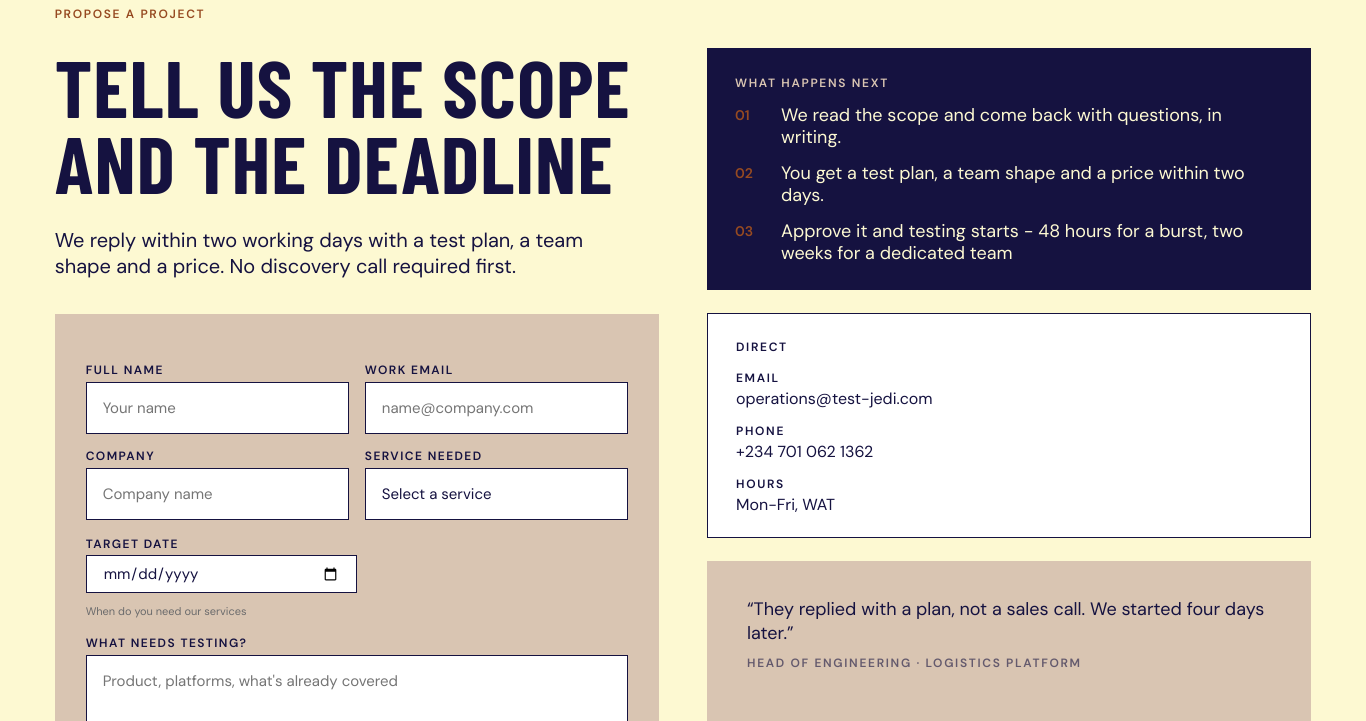
Test case: ContactSection notifications › shows a success toast after a successful submission
The width and height of the screenshot is (1366, 721).
In the field labelled "Full name": (217,408) [86, 382, 349, 434], type "Jane Applicant"
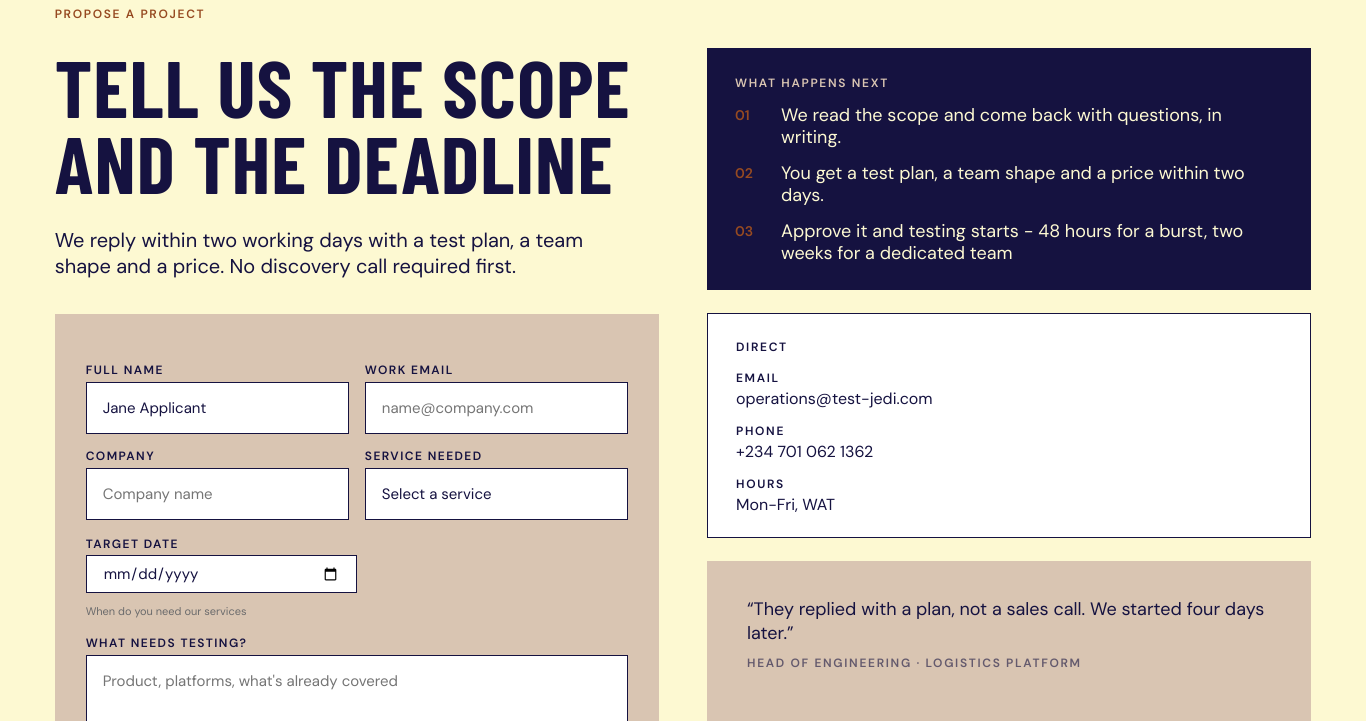
In the field labelled "Work email": (496,408) [365, 382, 628, 434], type "jane@example.com"
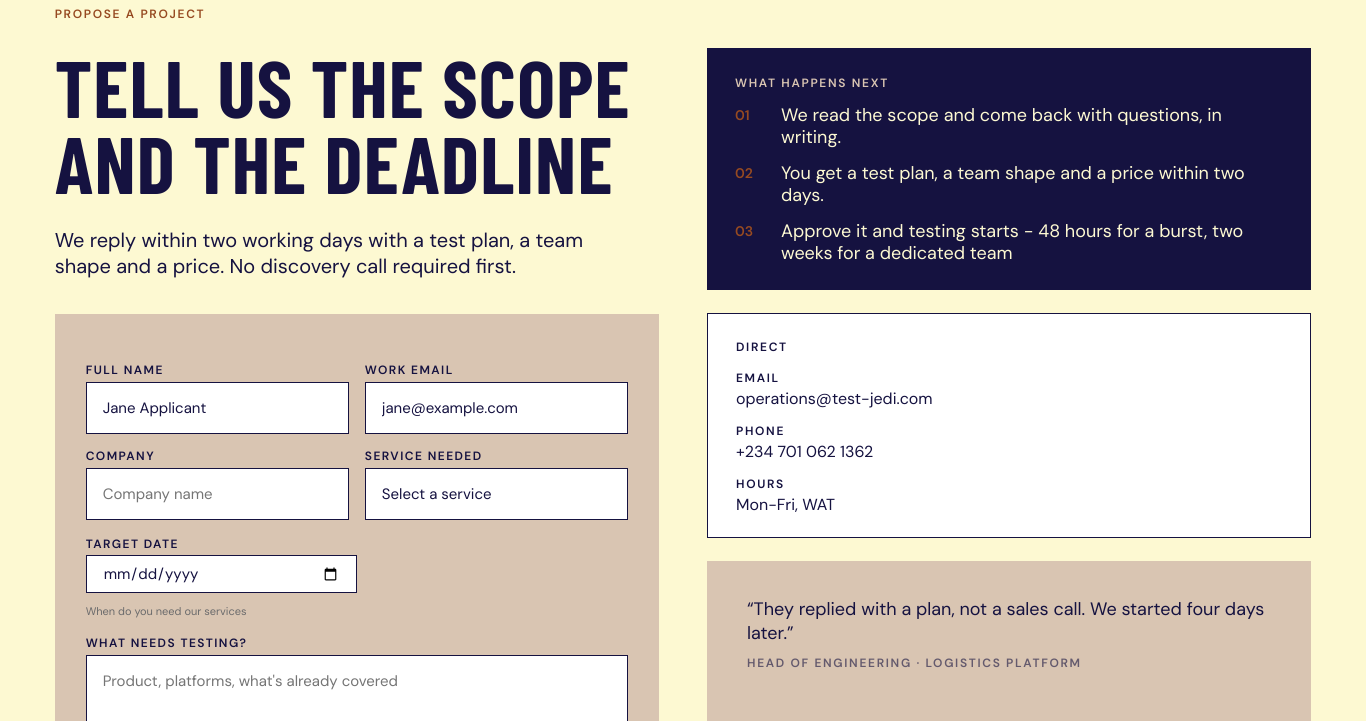
In the field labelled "Company": (217,494) [86, 468, 349, 520], type "Example Co"
(page scrolled)
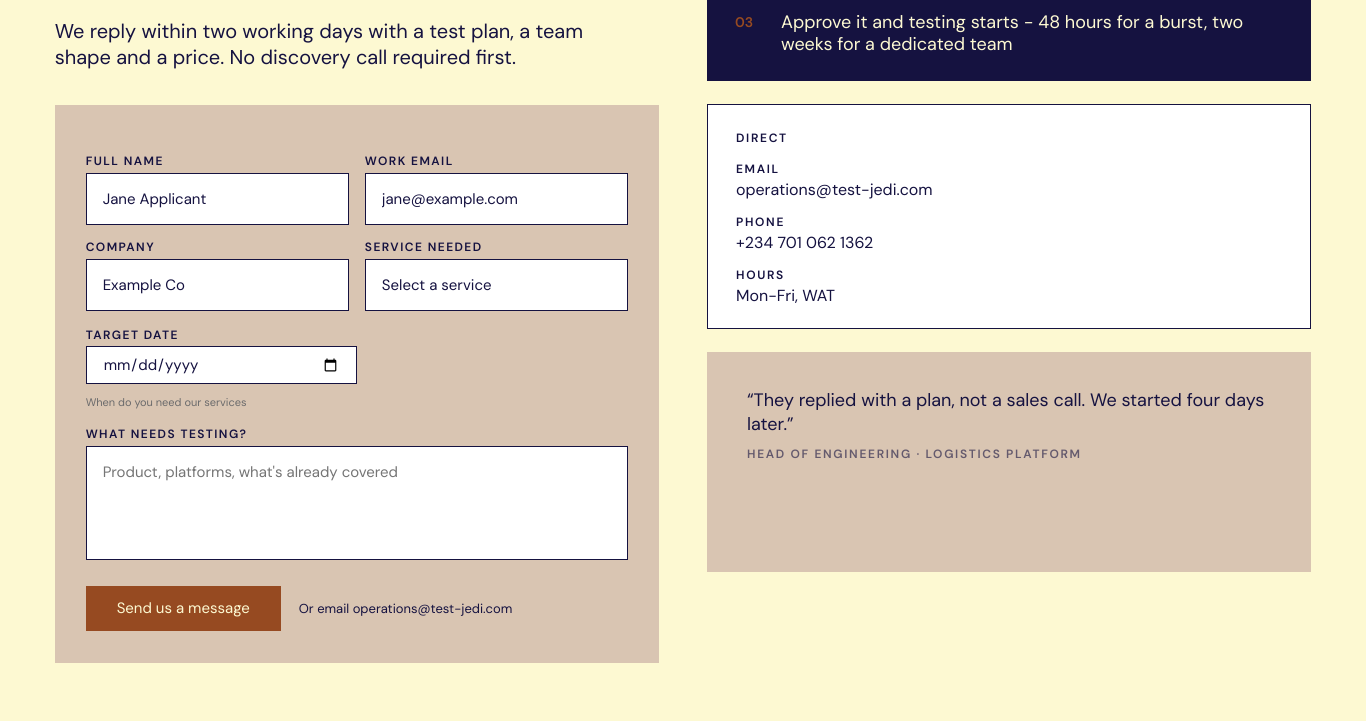
In the text box labelled "What needs testing?": (357,502) [86, 446, 628, 560], type "A web application"
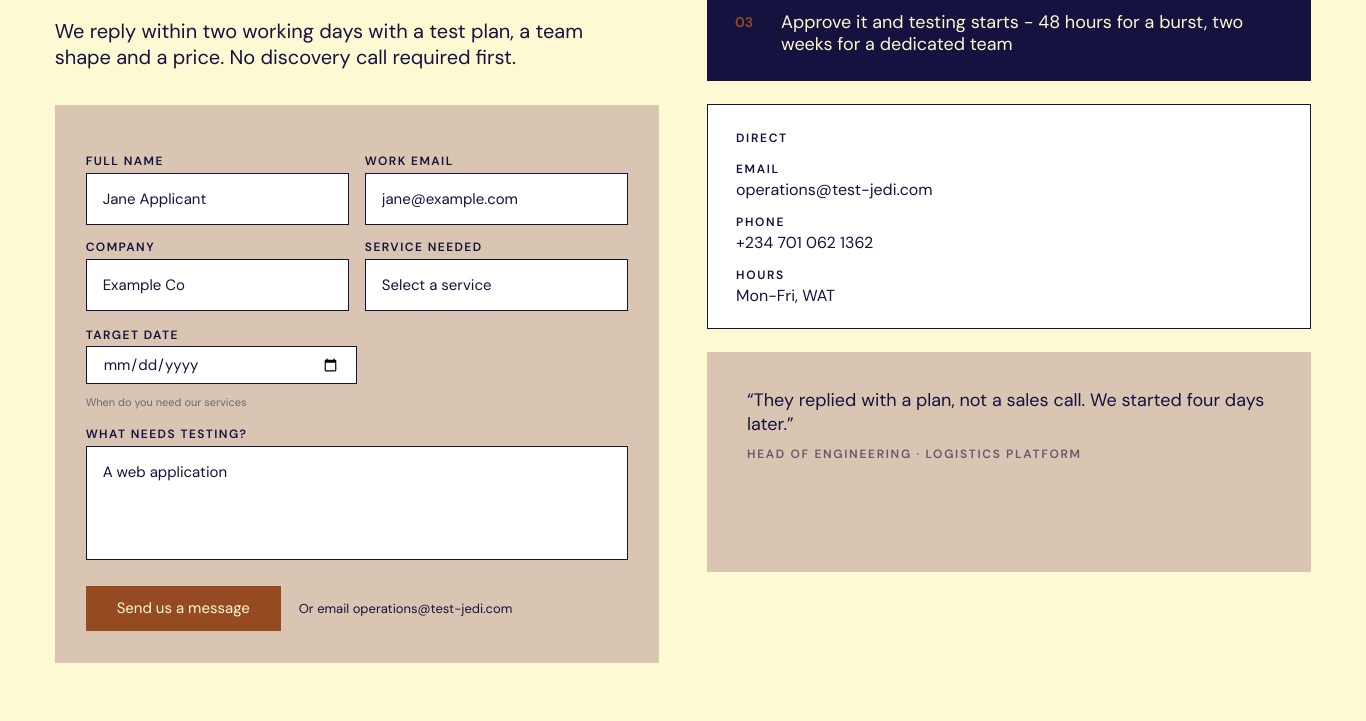
Submit the form named "Send us a message", box [55, 105, 659, 662]
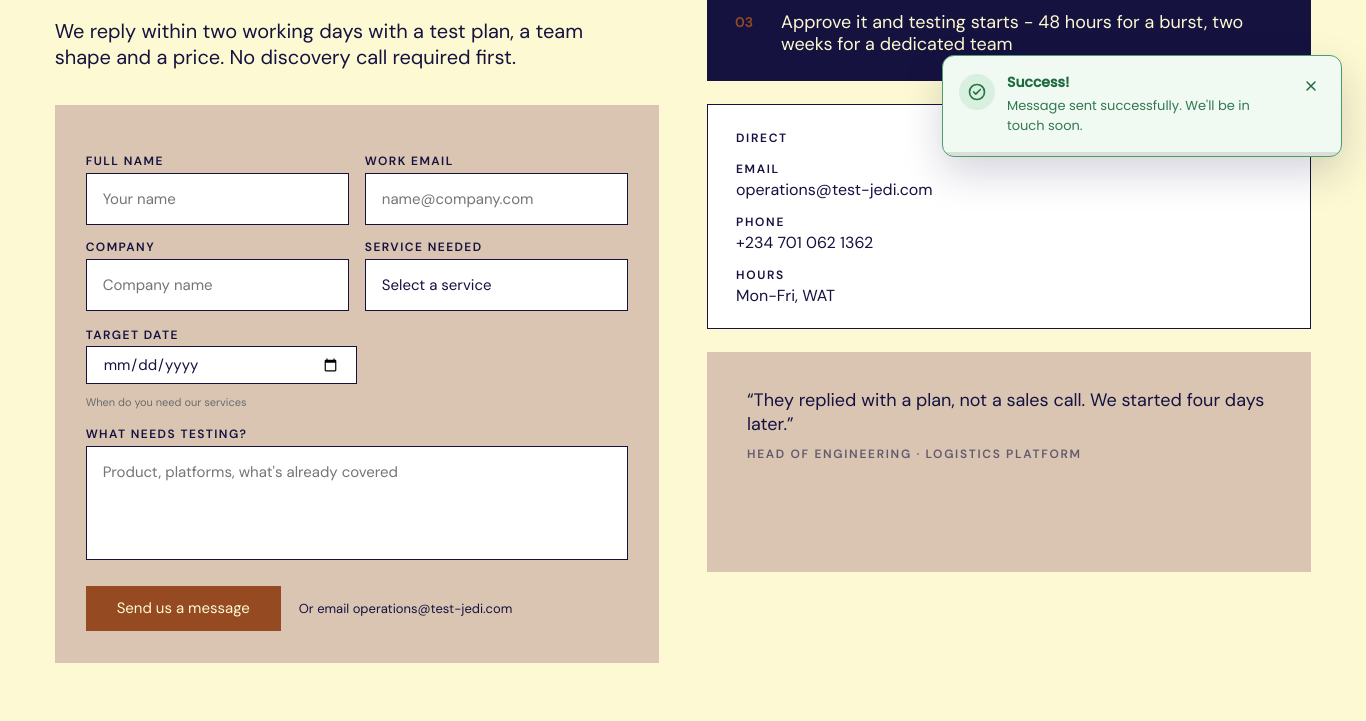
Check: the message shows "Success!", box [1007, 72, 1069, 92]
Check: the text "Message sent successfully. We'll be in touch soon." is shown, box [1007, 96, 1285, 136]
